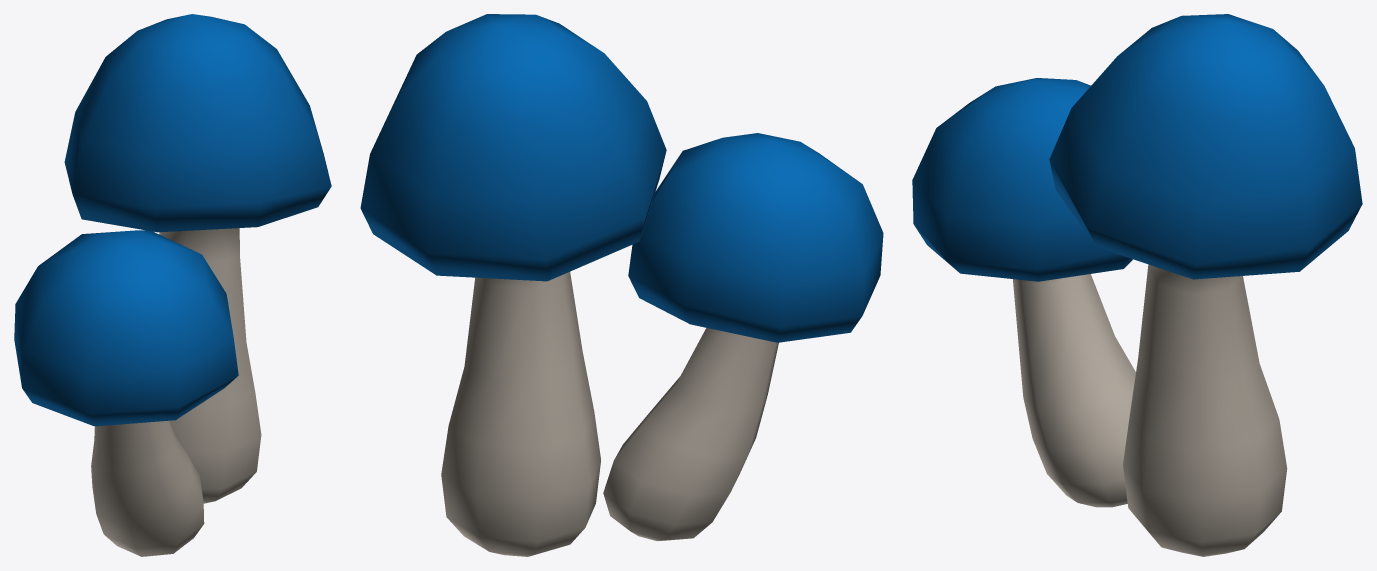
3 views of the same model, side by side, from view 1: azimuth 30°, elevation 25°; view 2: azimuth 150°, elevation 25°; view 3: azimuth 270°, elevation 25° (orthographic). The views are drawn at different scales.
Visible parts, largest first — view 1: lowpolymushroom_03; view 2: lowpolymushroom_03; view 3: lowpolymushroom_03.
Boxes of the visible parts, x1=… form: lowpolymushroom_03: x1=14, y1=14, x2=331, y2=556; lowpolymushroom_03: x1=360, y1=14, x2=883, y2=556; lowpolymushroom_03: x1=912, y1=14, x2=1362, y2=556.
Size of the model in its own units: 0.4167 by 0.5149 by 0.395.
